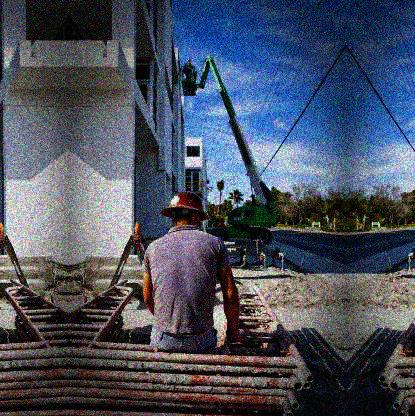helmet: (162, 192, 207, 229)
